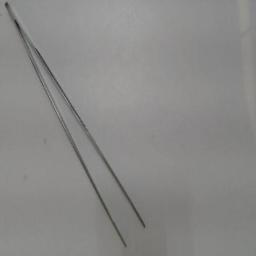DeBakey Dissector: (3, 0, 155, 252)
